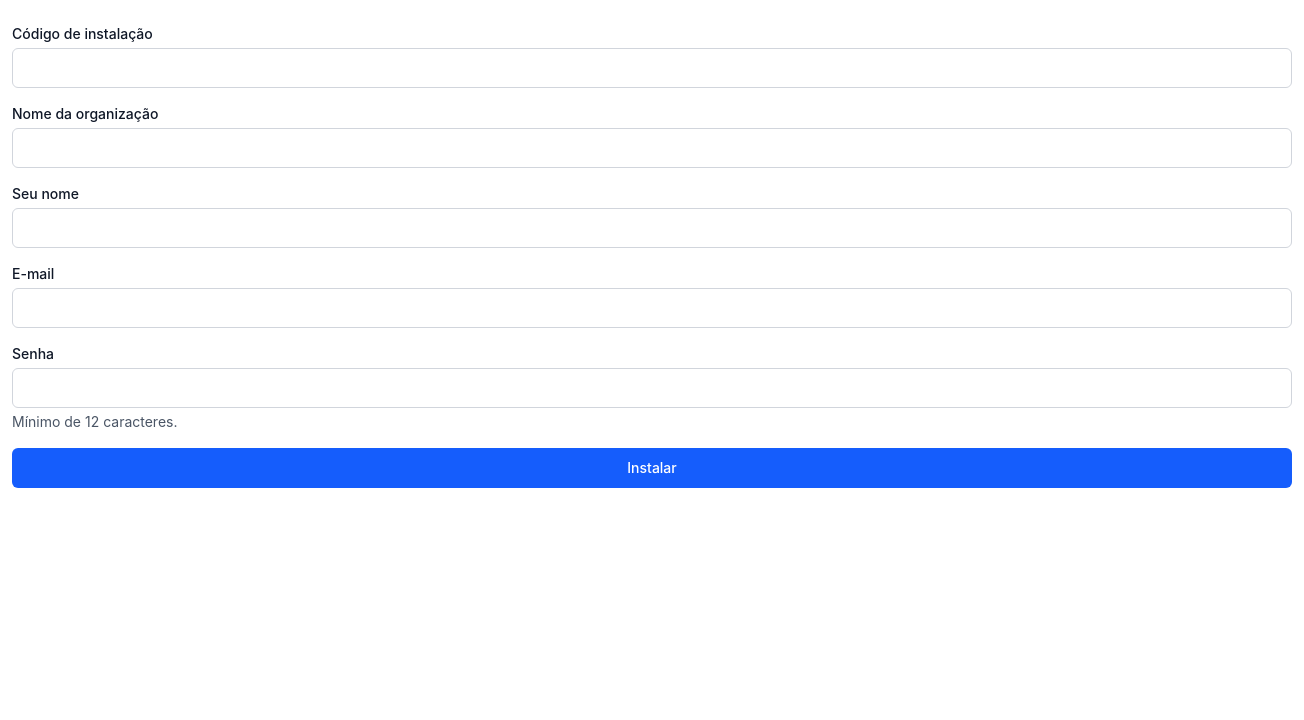
it: empty submit shows every required message and focuses the first invalid field
Click the button "Instalar" at (652, 468), box x1=12 y1=448 x2=1292 y2=488
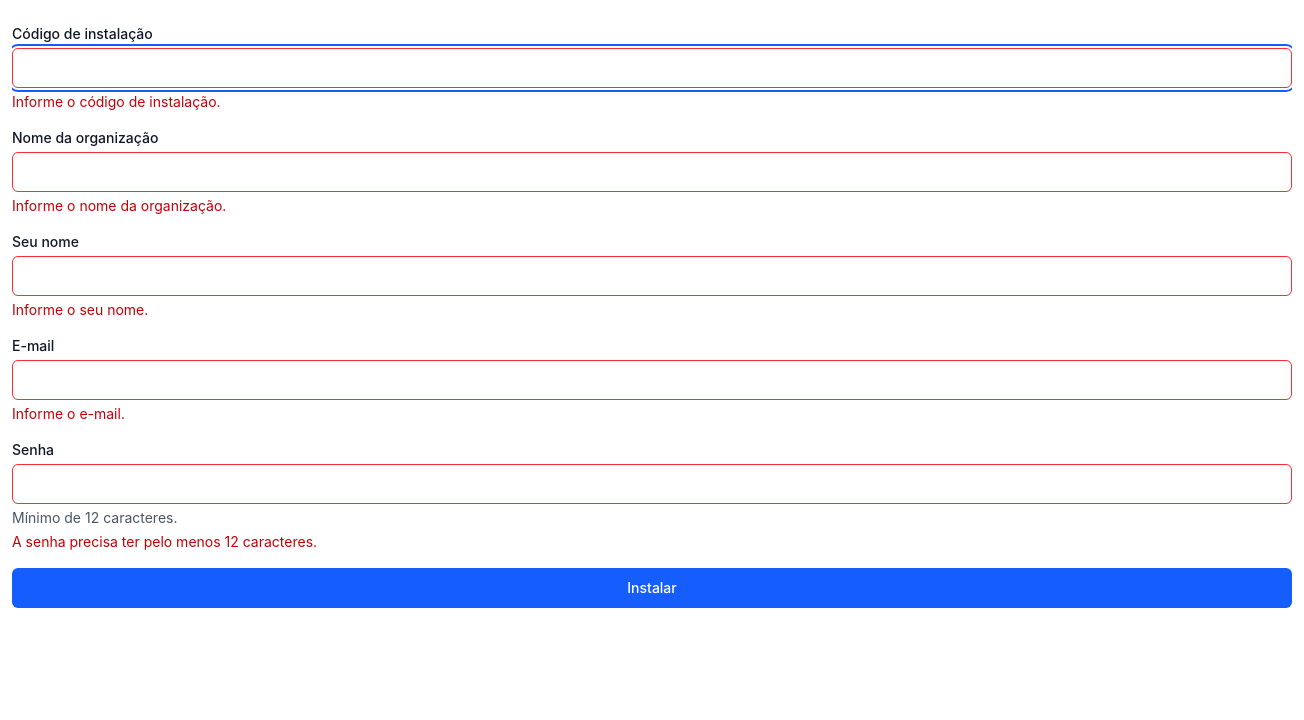
Check: the text "Informe o código de instalação." is shown, box x1=12 y1=93 x2=221 y2=110
Check: the text "Informe o nome da organização." is shown, box x1=12 y1=197 x2=226 y2=214
Check: the text "Informe o seu nome." is shown, box x1=12 y1=301 x2=148 y2=318
